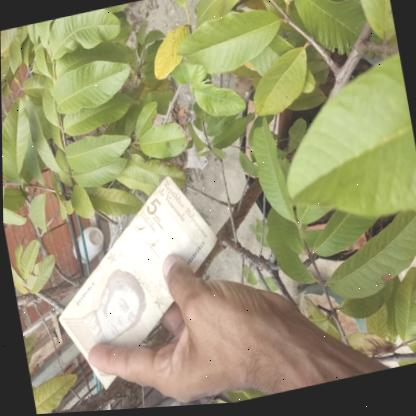five-front-vef: (37, 167, 238, 400)
